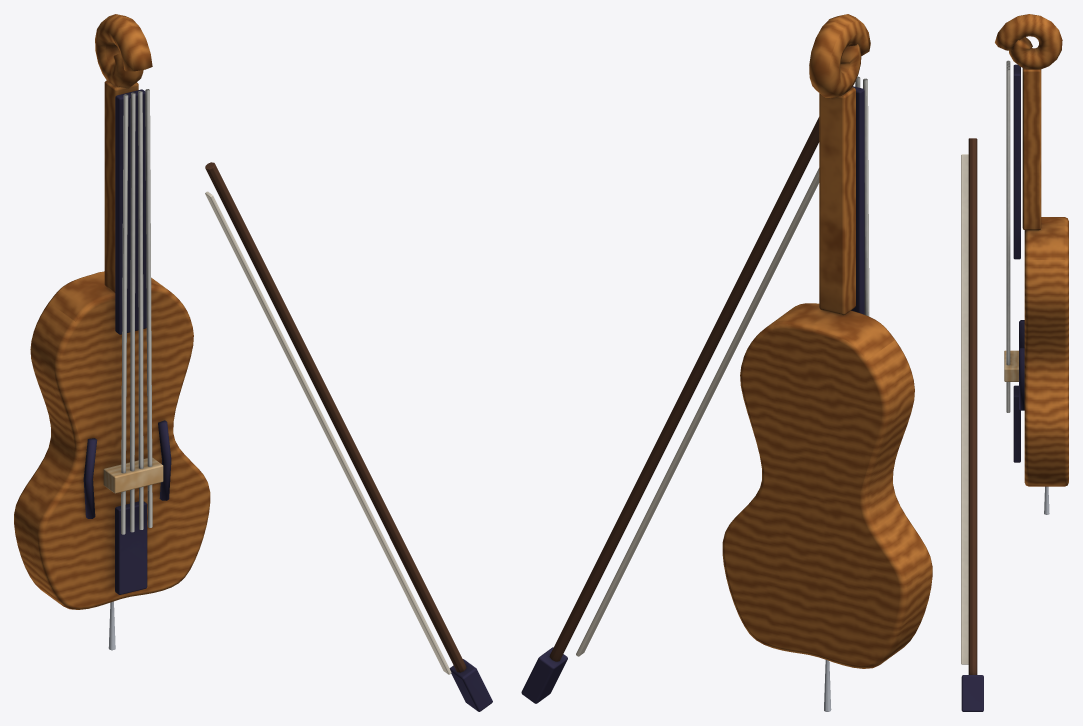
The model's file is Cello.fbx.
3 views of the same model, side by side, from view 1: azimuth 30°, elevation 25°; view 2: azimuth 150°, elevation 25°; view 3: azimuth 270°, elevation 25° (orthographic). The views are drawn at different scales.
Parts seen in each view (by area): view 1: Cello_Body, Bow_Mesh.001, String_1_Mesh.005, String_2_Mesh.005, String_3_Mesh.005, String_0_Mesh.005; view 2: Cello_Body, Bow_Mesh.001, String_0_Mesh.005; view 3: Cello_Body, Bow_Mesh.001, String_3_Mesh.005.
Boxes of the visible parts, x1,y1,x2,y2 form: Cello_Body: [14, 14, 210, 650]; Bow_Mesh.001: [205, 162, 492, 711]; String_1_Mesh.005: [130, 92, 135, 532]; String_2_Mesh.005: [138, 91, 143, 529]; String_3_Mesh.005: [145, 89, 152, 527]; String_0_Mesh.005: [121, 94, 128, 534]; Cello_Body: [722, 14, 932, 711]; Bow_Mesh.001: [521, 117, 819, 703]; String_0_Mesh.005: [863, 78, 869, 316]; Cello_Body: [995, 14, 1068, 514]; Bow_Mesh.001: [961, 138, 983, 711]; String_3_Mesh.005: [1006, 69, 1010, 412].
Size of the model in its own units: 1.31 by 2.24 by 0.3796.
